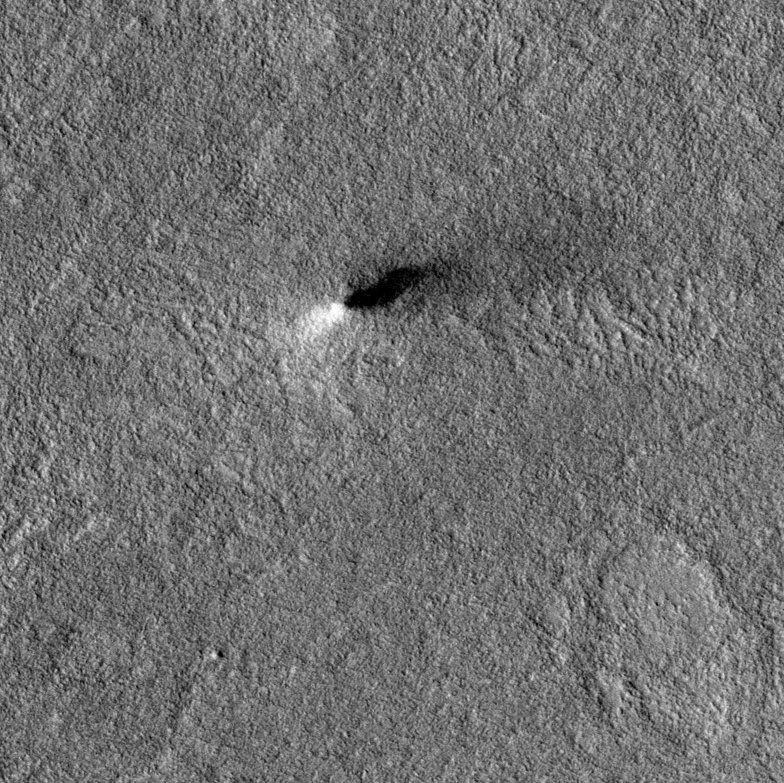dust_devil: (284, 259, 436, 348)
